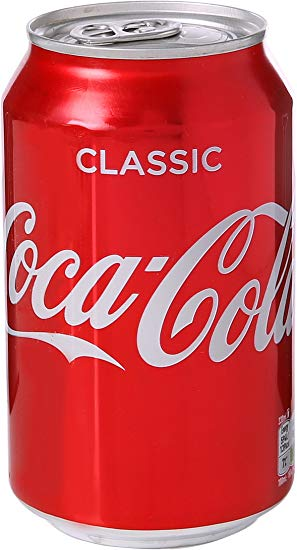coke: (6, 203, 268, 372)
